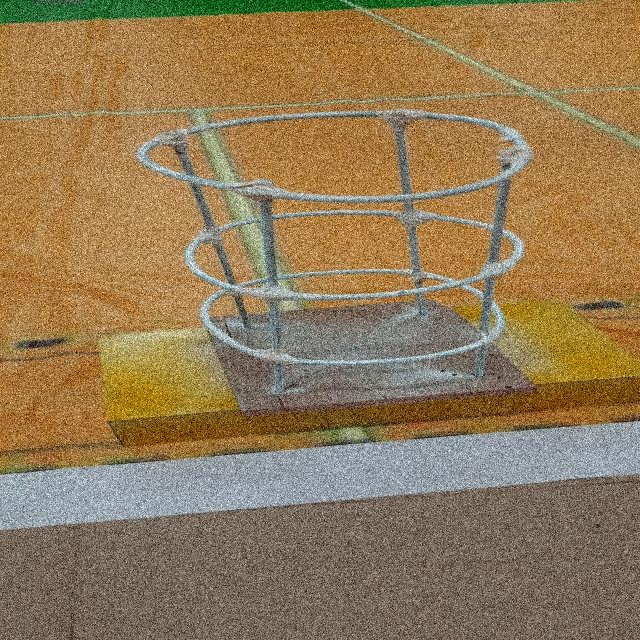silo: (102, 90, 571, 426)
